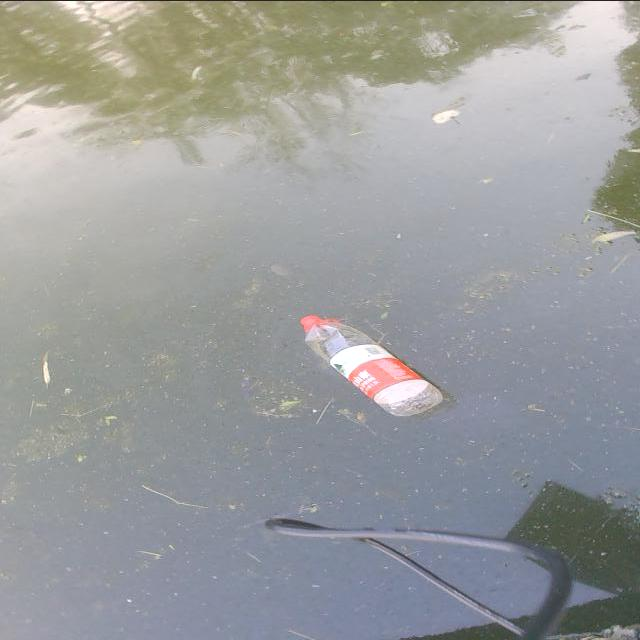bottle: (266, 298, 462, 432)
